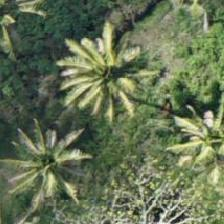coconut_tree: (61, 36, 151, 126), (2, 121, 92, 211), (160, 99, 223, 189)
